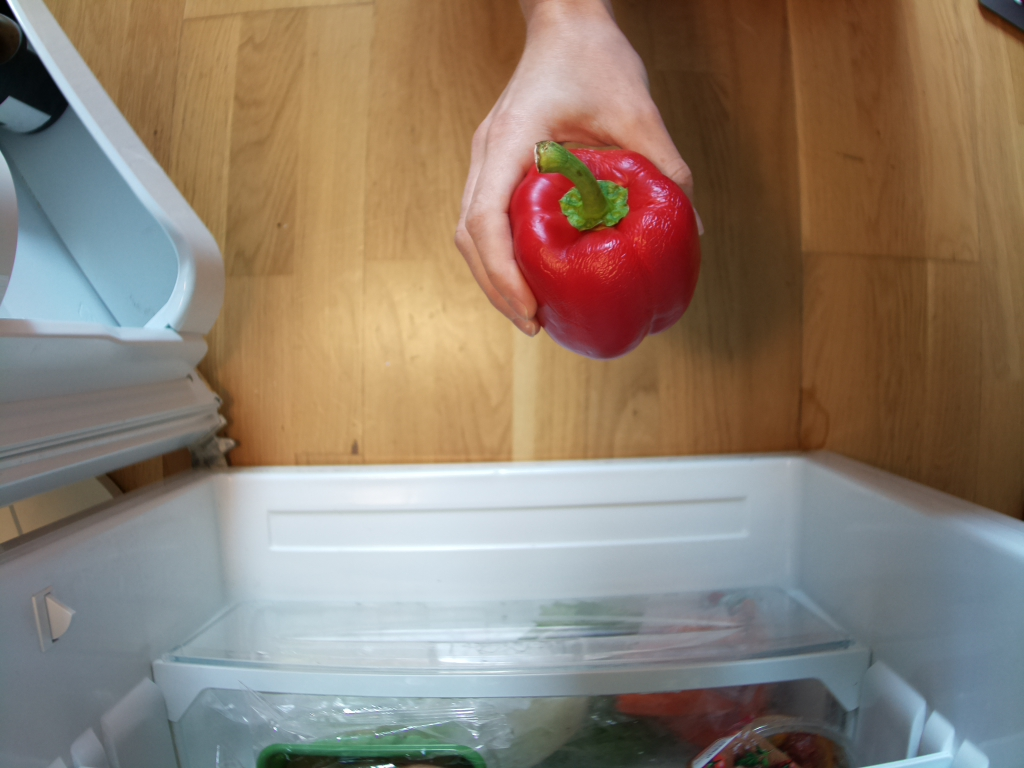pepper-bad: (490, 130, 711, 367)
